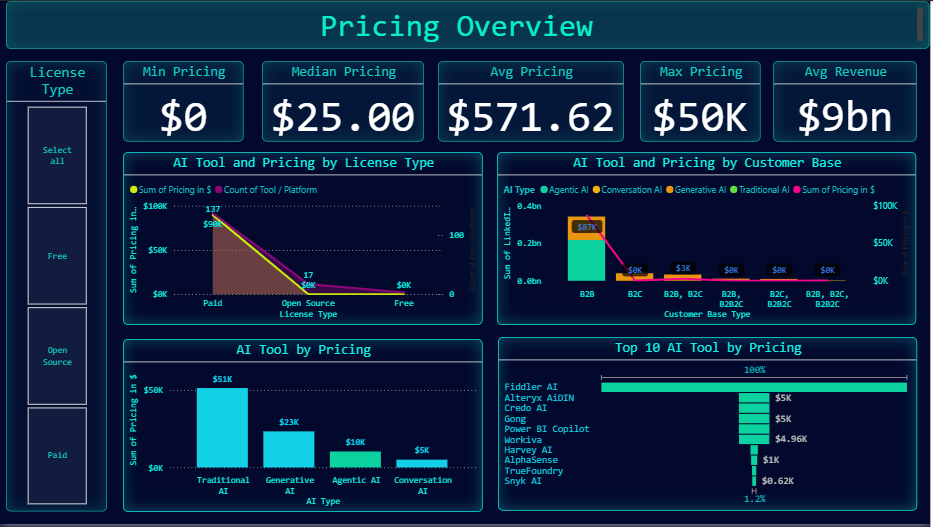

This screenshot's page, from the dashboard's own definition file:
{"tool":"powerbi","page":{"name":"Pricing Overview","canvas":[1280,720],"ordinal":2},"visuals":[{"type":"textbox","box":[8.9,0,1271.1,66.1],"z":0},{"type":"card","title":"Min Pricing ","fields":{"Values":["Min(Cleaned Analysis.Pricing in $)"]},"box":[169.8,82.2,166.3,110.8],"z":1000},{"type":"areaChart","title":"AI Tool and Pricing   by License Type","fields":{"Category":["Cleaned Analysis.License Type"],"Y":["Sum(Cleaned Analysis.Pricing in $)"],"Y2":["CountNonNull(Cleaned Analysis.Tool / Platform)"]},"box":[169.8,207.4,495.2,237.8],"z":2000},{"type":"card","title":"Max Pricing ","fields":{"Values":["Max(Cleaned Analysis.Pricing in $)"]},"box":[881.3,82.2,166.3,110.8],"z":3000},{"type":"card","title":"Avg Pricing ","fields":{"Values":["Avg(Cleaned Analysis.Pricing in $)"]},"box":[602.5,82.2,255.6,110.8],"z":4000},{"type":"card","title":"Median Pricing ","fields":{"Values":["Median(Cleaned Analysis.Pricing in $)"]},"box":[361.1,82.2,223.5,110.8],"z":5000},{"type":"slicer","title":"License Type","fields":{"Values":["Cleaned Analysis.License Type"]},"box":[8.9,82.2,139.4,620.3],"z":6000},{"type":"card","title":"Avg Revenue ","fields":{"Values":["Avg(Cleaned Analysis.Revenue 2024 $ (100k)_2)"]},"box":[1063.7,82.2,198.4,110.8],"z":7000},{"type":"columnChart","title":"AI Tool by  Pricing  ","fields":{"Category":["Cleaned Analysis.AI Type"],"Y":["Sum(Cleaned Analysis.Pricing in $)"]},"box":[169.8,464.8,495.2,237.8],"z":8000},{"type":"lineStackedColumnComboChart","title":"AI Tool and Pricing   by Customer Base","fields":{"Category":["Cleaned Analysis.Customer Base Type"],"Y":["Sum(Cleaned Analysis.LinkedIn Followers )"],"Series":["Cleaned Analysis.AI Type"],"Y2":["Sum(Cleaned Analysis.Pricing in $)"]},"box":[684.4,207.9,576.9,238.2],"z":9000},{"type":"funnel","title":"Top 10 AI Tool by  Pricing  ","fields":{"Y":["Sum(Cleaned Analysis.Pricing in $)"],"Category":["Cleaned Analysis.Tool / Platform"]},"box":[685.3,462.7,576.9,238.6],"z":10000}]}

Visuals, with their boxes in screenshot pixels (x1, y1, x2, y2), scaled from the page's 1280x720 canvas onto the 933x527 screenshot:
textbox: x1=6, y1=0, x2=932, y2=48
"Min Pricing " card: x1=124, y1=60, x2=245, y2=141
"AI Tool and Pricing   by License Type" areaChart: x1=124, y1=152, x2=485, y2=326
"Max Pricing " card: x1=642, y1=60, x2=764, y2=141
"Avg Pricing " card: x1=439, y1=60, x2=625, y2=141
"Median Pricing " card: x1=263, y1=60, x2=426, y2=141
"License Type" slicer: x1=6, y1=60, x2=108, y2=514
"Avg Revenue " card: x1=775, y1=60, x2=920, y2=141
"AI Tool by  Pricing  " columnChart: x1=124, y1=340, x2=485, y2=514
"AI Tool and Pricing   by Customer Base" lineStackedColumnComboChart: x1=499, y1=152, x2=919, y2=327
"Top 10 AI Tool by  Pricing  " funnel: x1=500, y1=339, x2=920, y2=513
